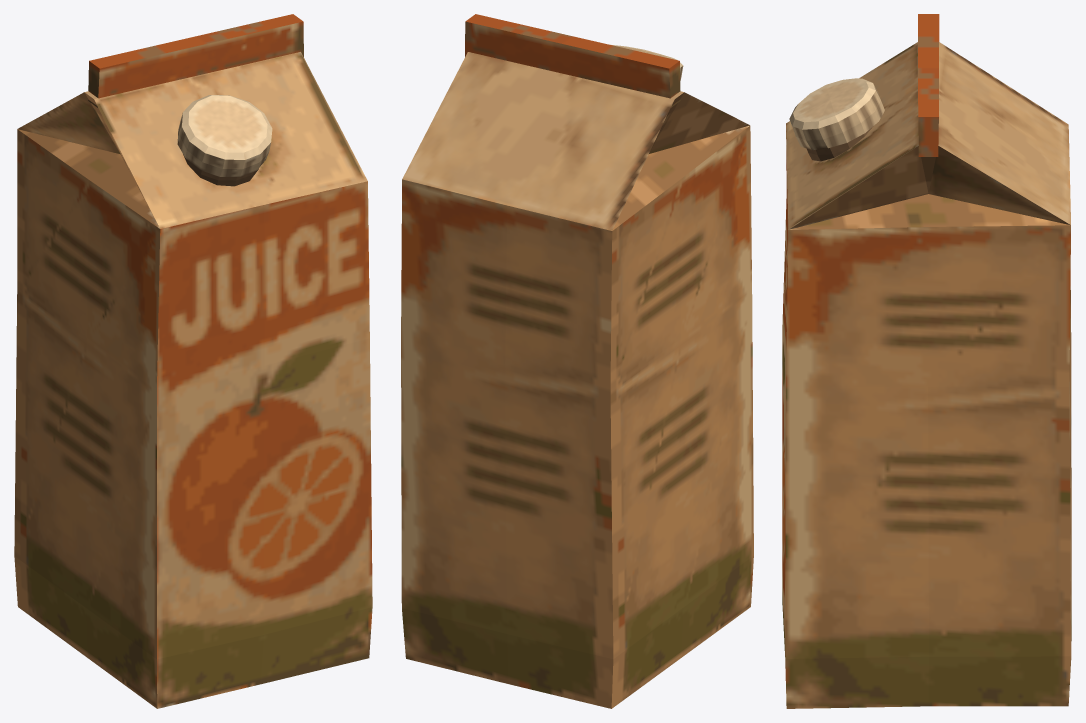
The model's file is CI11_JuiceCarton.fbx.
3 views of the same model, side by side, from view 1: azimuth 30°, elevation 25°; view 2: azimuth 150°, elevation 25°; view 3: azimuth 270°, elevation 25° (orthographic).
Visible parts, largest first — view 1: CI11_JuiceCarton; view 2: CI11_JuiceCarton; view 3: CI11_JuiceCarton.
Part boxes in pixels (left/top/right/bottom): CI11_JuiceCarton: left=14, top=14, right=372, bottom=708; CI11_JuiceCarton: left=401, top=14, right=753, bottom=708; CI11_JuiceCarton: left=782, top=14, right=1071, bottom=708.
Size of the model in its own units: 0.08 by 0.2089 by 0.0922.
1 material, 1 textured.
